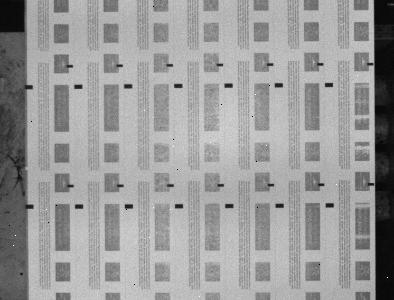qblock: (25, 204, 34, 209), (224, 83, 233, 88), (275, 203, 284, 208), (74, 84, 82, 89), (225, 203, 233, 208), (75, 204, 83, 209), (174, 84, 183, 88), (24, 85, 33, 89), (325, 203, 334, 207), (275, 83, 283, 87), (124, 84, 132, 88), (325, 83, 333, 87), (175, 204, 183, 208), (125, 204, 133, 208)
smallqblock: (66, 64, 73, 68), (367, 62, 374, 66), (166, 63, 173, 67), (317, 63, 324, 66), (117, 184, 124, 187), (217, 184, 224, 187), (167, 184, 174, 187), (67, 184, 74, 187), (116, 64, 123, 67), (267, 183, 274, 186), (267, 63, 273, 66), (318, 183, 324, 186), (368, 183, 374, 186), (217, 63, 223, 66)
